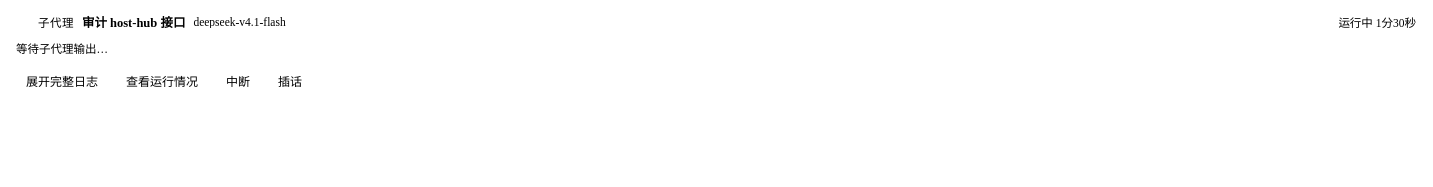
Test case: delegate 运行卡：插话 › rejected：提示已不接受插话，输入保留
Click the button "插话" at (290, 82), box [268,68,312,94]
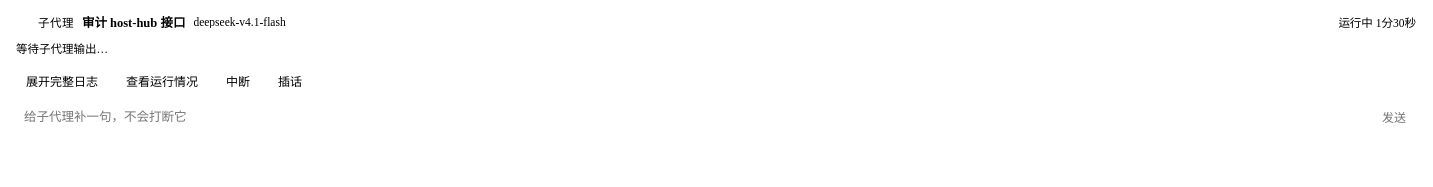
Type "再补一句" into the field with placeholder "给子代理补一句，不会打断它" at (690, 118), box [16,104,1364,130]
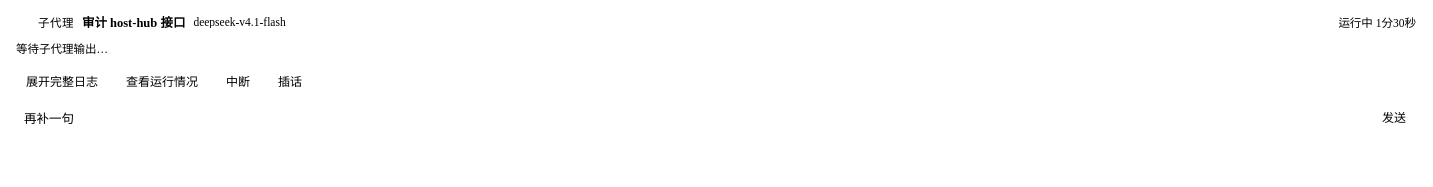
Click the button "发送" at (1394, 118), box [1372,104,1416,130]
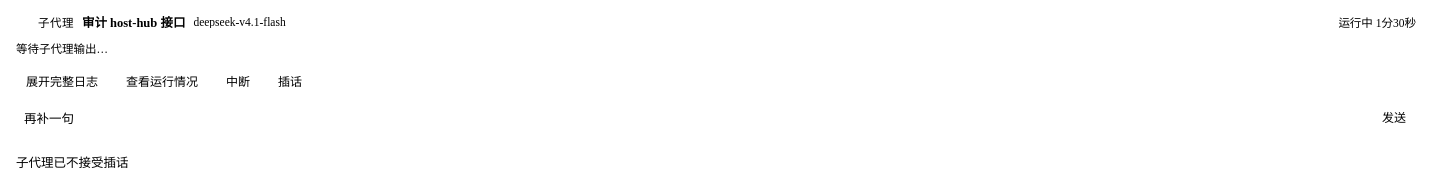
Check: the text "子代理已不接受插话" is shown, box [16,156,128,170]
